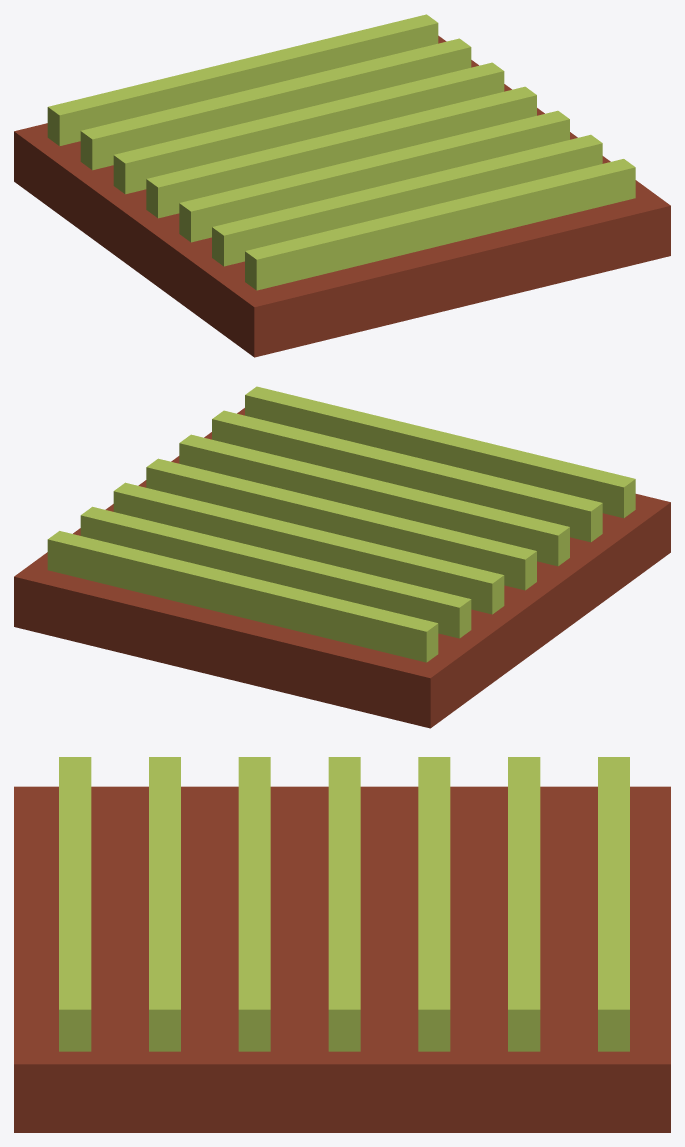
The model's file is SM_Crop_A.fbx.
3 views of the same model, one above another, from view 1: azimuth 30°, elevation 25°; view 2: azimuth 150°, elevation 25°; view 3: azimuth 270°, elevation 25° (orthographic). The views are drawn at different scales.
Visible parts, largest first — view 1: Cube.029, Cube.025; view 2: Cube.029, Cube.025; view 3: Cube.025, Cube.029.
Boxes of the visible parts, <box> form: Cube.029: <box>47,14,635,290</box>; Cube.025: <box>14,35,670,357</box>; Cube.029: <box>47,386,635,662</box>; Cube.025: <box>14,408,670,728</box>; Cube.025: <box>14,786,670,1132</box>; Cube.029: <box>59,757,629,1051</box>.
Size of the model in its own units: 400 by 74.47 by 400.
